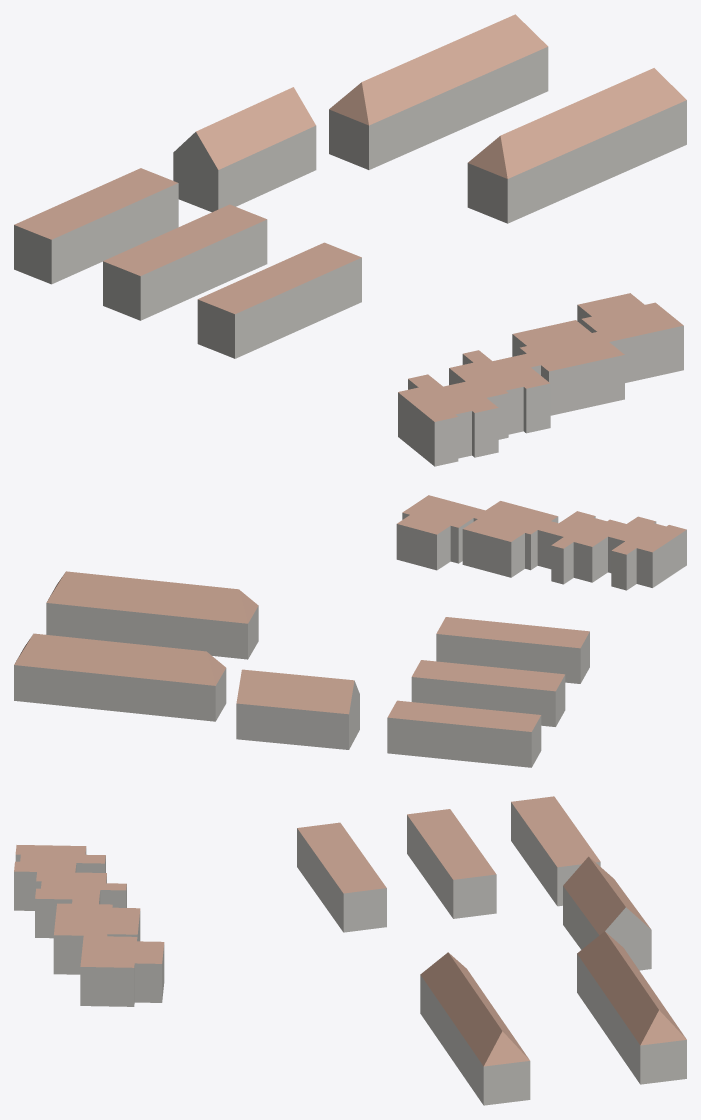
The model's file is gridID_29.dae.
3 views of the same model, one above another, from view 1: azimuth 30°, elevation 25°; view 2: azimuth 150°, elevation 25°; view 3: azimuth 270°, elevation 25° (orthographic). The views are drawn at different scales.
Visible parts, largest first — view 1: model_gridID_29_w389552672, model_gridID_29_w376378539, model_gridID_29_w376378576, model_gridID_29_w376378548, model_gridID_29_w376378571_001, model_gridID_29_w376378545, model_gridID_29_w376378592_001; view 2: model_gridID_29_w389552672, model_gridID_29_w376378539, model_gridID_29_w376378576, model_gridID_29_w376378548, model_gridID_29_w376378592_001, model_gridID_29_w376378545, model_gridID_29_w376378571_001; view 3: model_gridID_29_w389552672, model_gridID_29_w376378576, model_gridID_29_w376378539, model_gridID_29_w376378545, model_gridID_29_w376378571_001, model_gridID_29_w376378548, model_gridID_29_w376378592_001.
Boxes of the visible parts, x1,y1,x2,y2 form: model_gridID_29_w389552672: (398, 293, 683, 466); model_gridID_29_w376378539: (329, 14, 548, 169); model_gridID_29_w376378576: (467, 68, 686, 223); model_gridID_29_w376378548: (173, 87, 316, 212); model_gridID_29_w376378571_001: (103, 204, 267, 320); model_gridID_29_w376378545: (197, 242, 361, 358); model_gridID_29_w376378592_001: (14, 168, 178, 284); model_gridID_29_w389552672: (396, 495, 686, 590); model_gridID_29_w376378539: (14, 633, 226, 721); model_gridID_29_w376378576: (46, 571, 258, 659); model_gridID_29_w376378548: (236, 669, 359, 749); model_gridID_29_w376378592_001: (387, 700, 541, 767); model_gridID_29_w376378545: (436, 617, 589, 683); model_gridID_29_w376378571_001: (411, 660, 565, 726); model_gridID_29_w389552672: (14, 845, 164, 1006); model_gridID_29_w376378576: (420, 952, 530, 1105); model_gridID_29_w376378539: (577, 931, 686, 1084); model_gridID_29_w376378545: (297, 822, 386, 932); model_gridID_29_w376378571_001: (407, 809, 496, 918); model_gridID_29_w376378548: (563, 856, 651, 970); model_gridID_29_w376378592_001: (511, 796, 600, 906).
Bounding box in the file's own units: 111 × 117 × 12.5.
